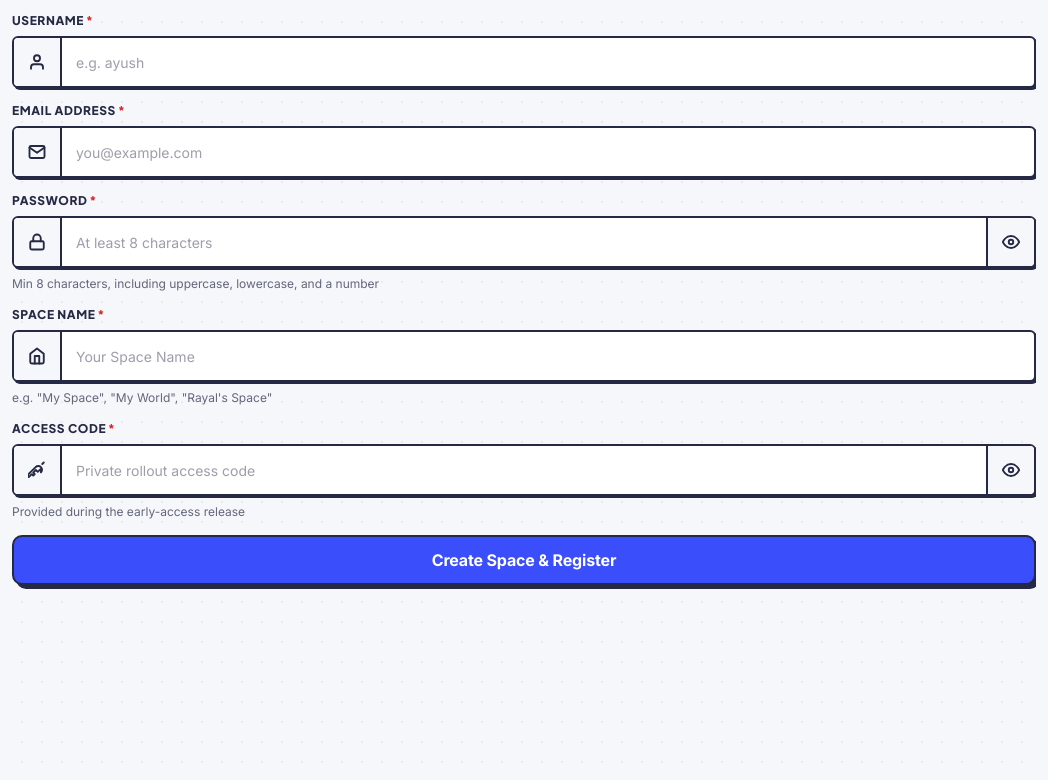
Test: SignupForm Component › displays backend error message on conflict (409) or invalid access code (400)
The width and height of the screenshot is (1048, 780).
Type "ayush_admin" into the field labelled "Username*" at (548, 62), box [62,38,1034,86]
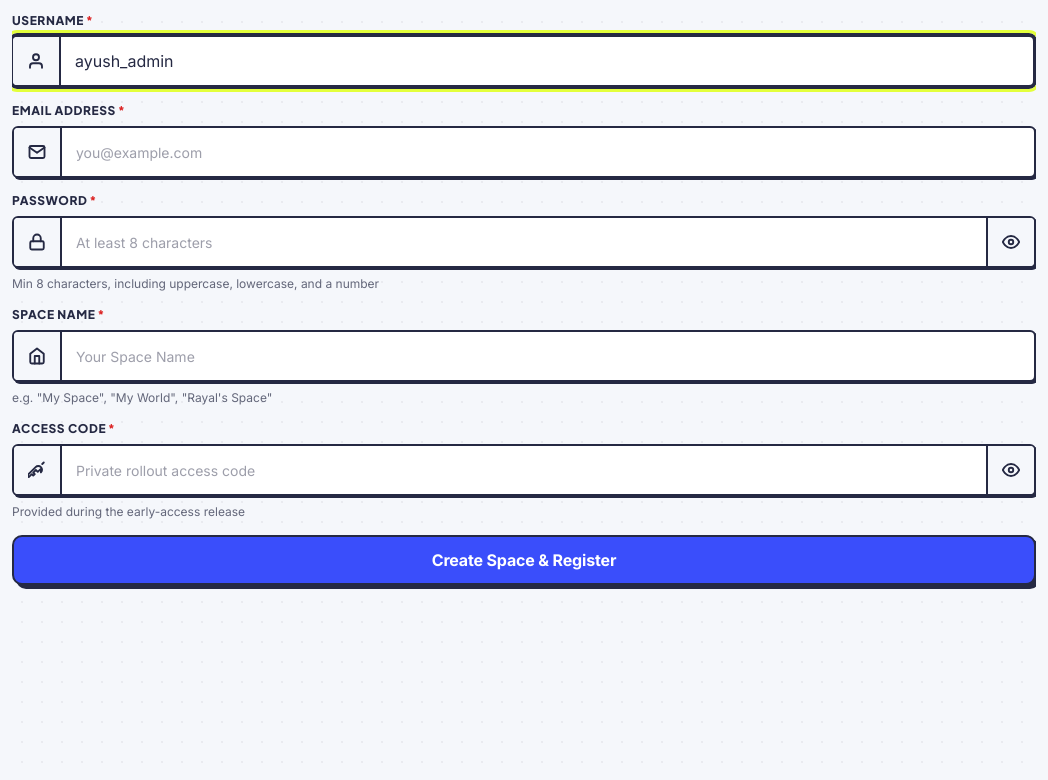
Type "ayush@example.com" into the field labelled "Email Address*" at (548, 152), box [62,128,1034,176]
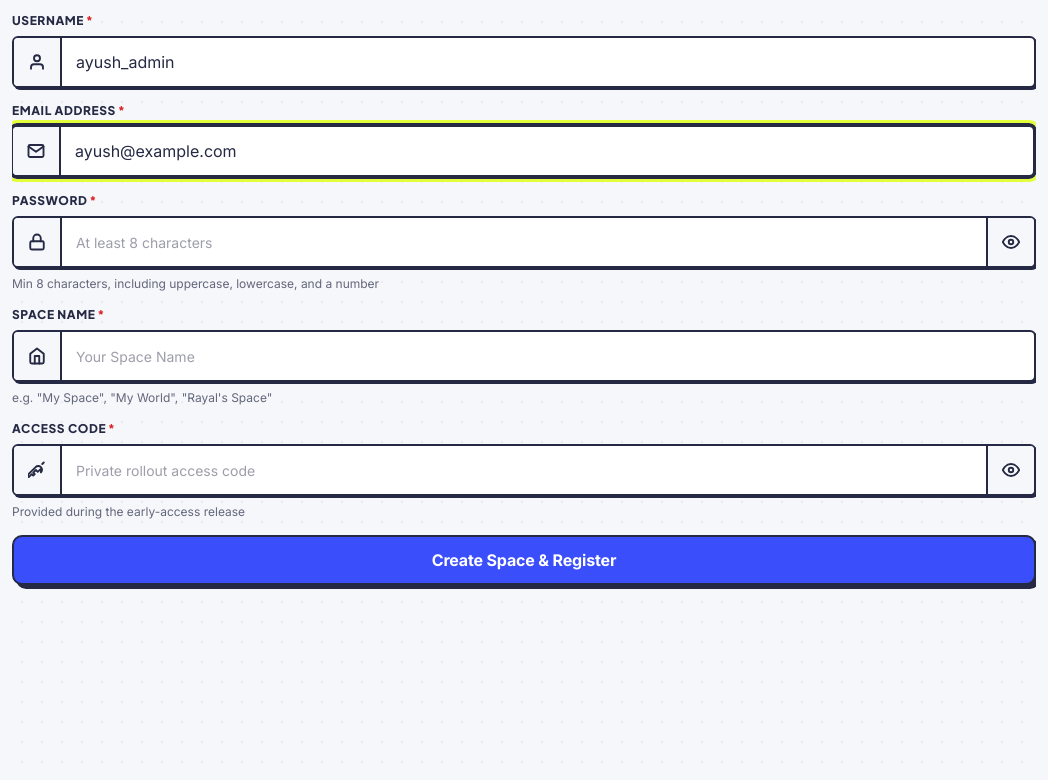
Type "StrongPass123!" into the password field labelled "Password*" at (548, 242), box [62,218,1034,266]
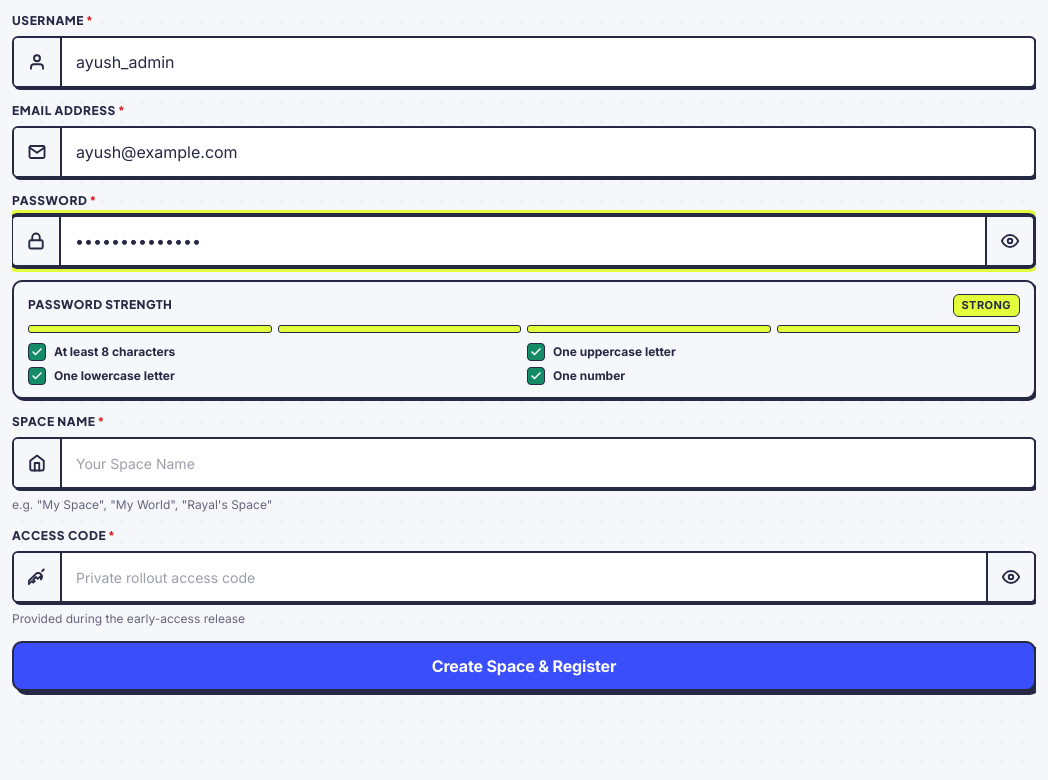
Type "My Space" into the field labelled "Space Name*" at (548, 462), box [62,438,1034,486]
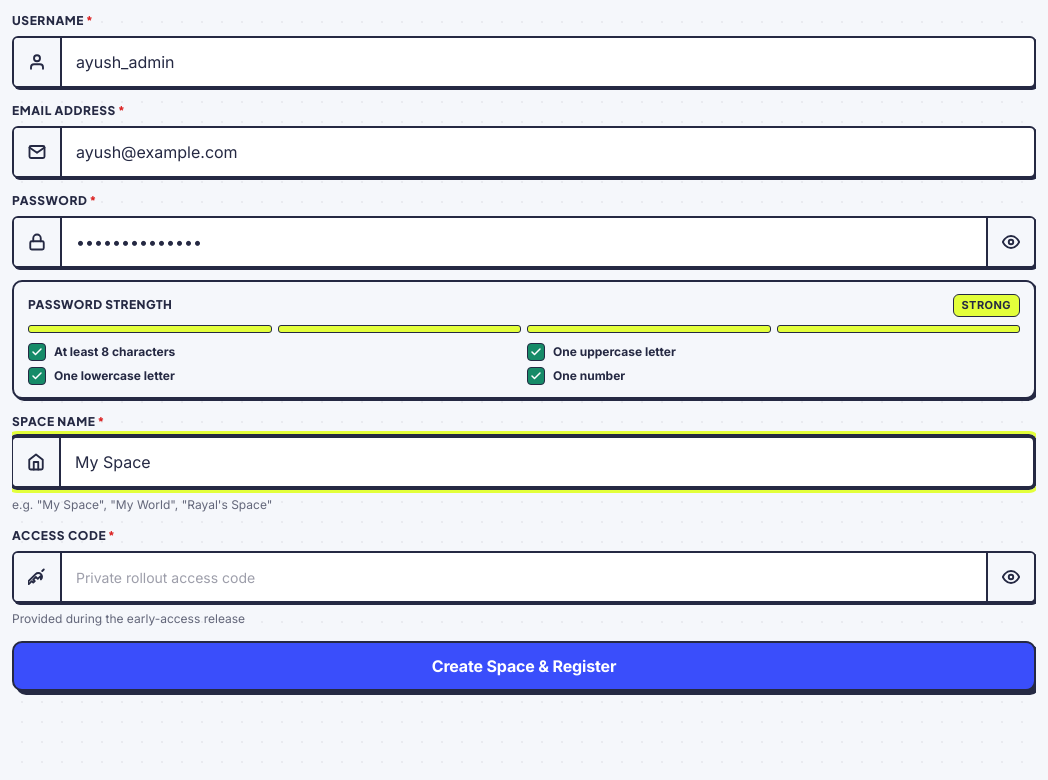
Type "MY_ACCESS_CODE" into the password field labelled "Access Code*" at (548, 577), box [62,553,1034,601]
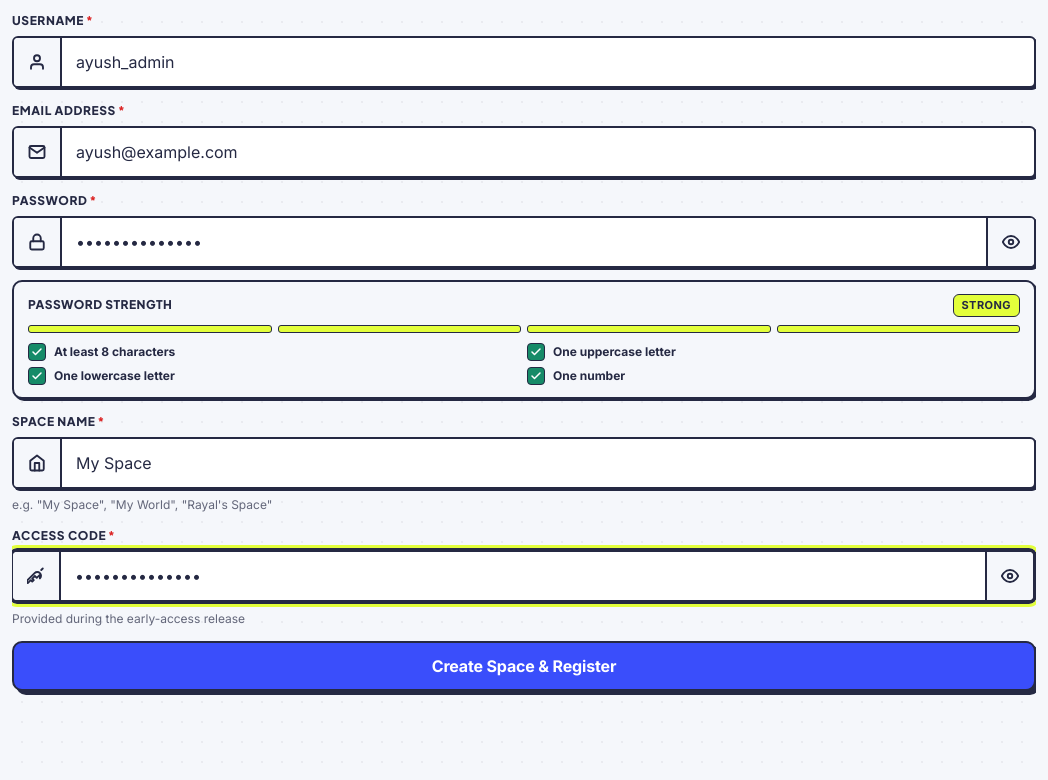
Click the button "Create Space & Register" at (524, 666), box [12,641,1036,691]
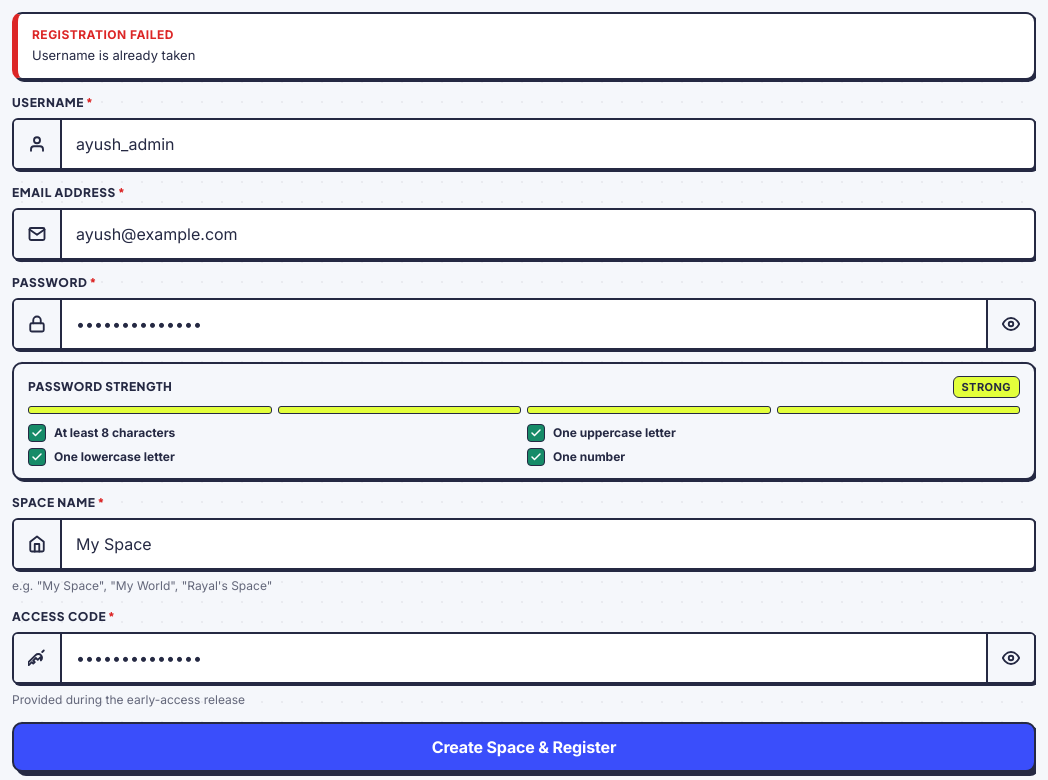
Expected: the text "Username is already taken" is shown, [32,47,195,63]
